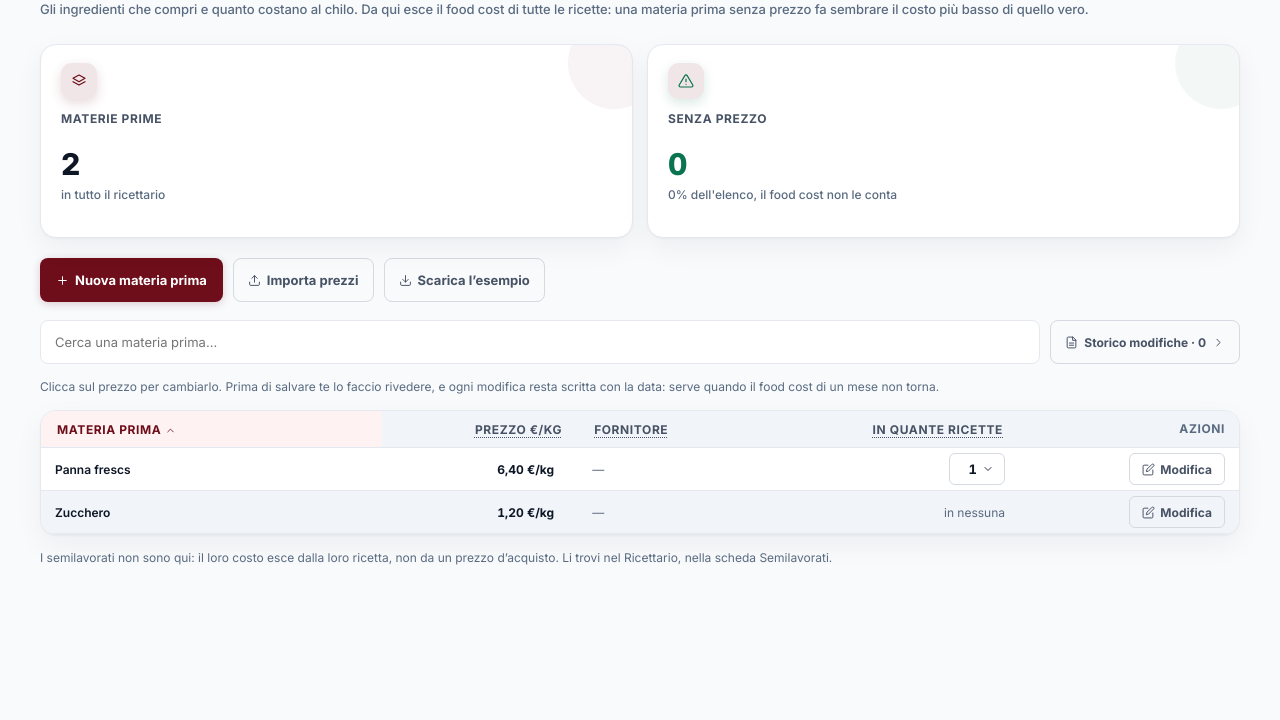
it: la finestra del cambio nome › un doppione viene fermato PRIMA di arrivare a chi salva
Step 1. Click the button "Modifica" in the row of "Panna frescs" → (1177, 469), box [1129,453,1225,485]
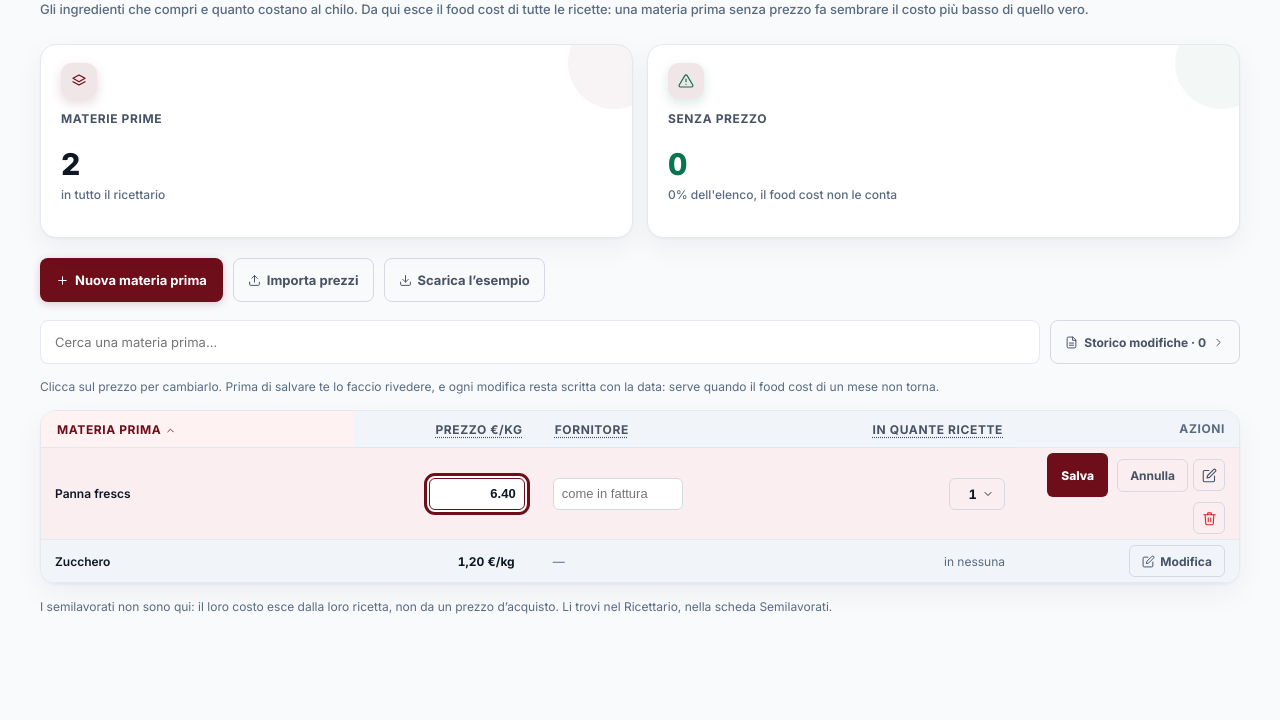
Expected: the button named "Cambia il nome di panna frescs" is shown
Step 2. Click the button named "Cambia il nome di panna frescs" → (1209, 475), box [1193,459,1225,491]
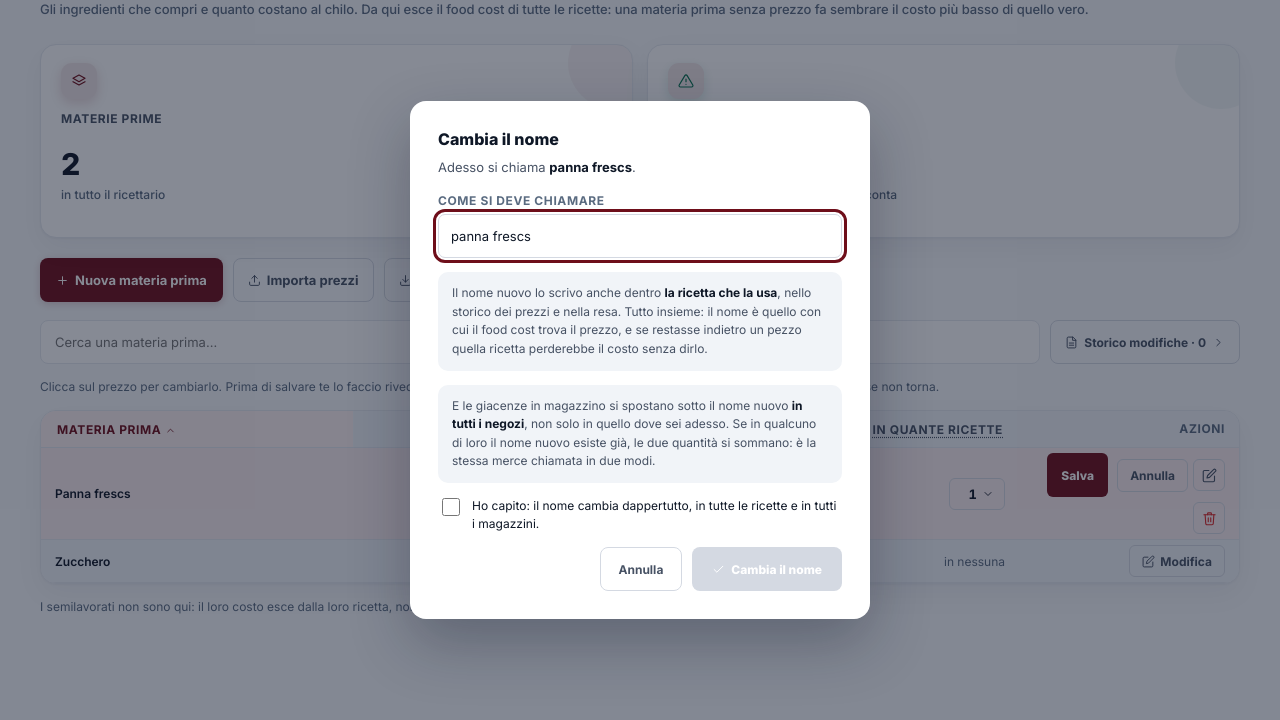
Expected: the field labelled "Come si deve chiamare" is shown
Step 3. Replace the text in the field labelled "Come si deve chiamare" with "zucchero" → (640, 236), box [438,214,842,258]
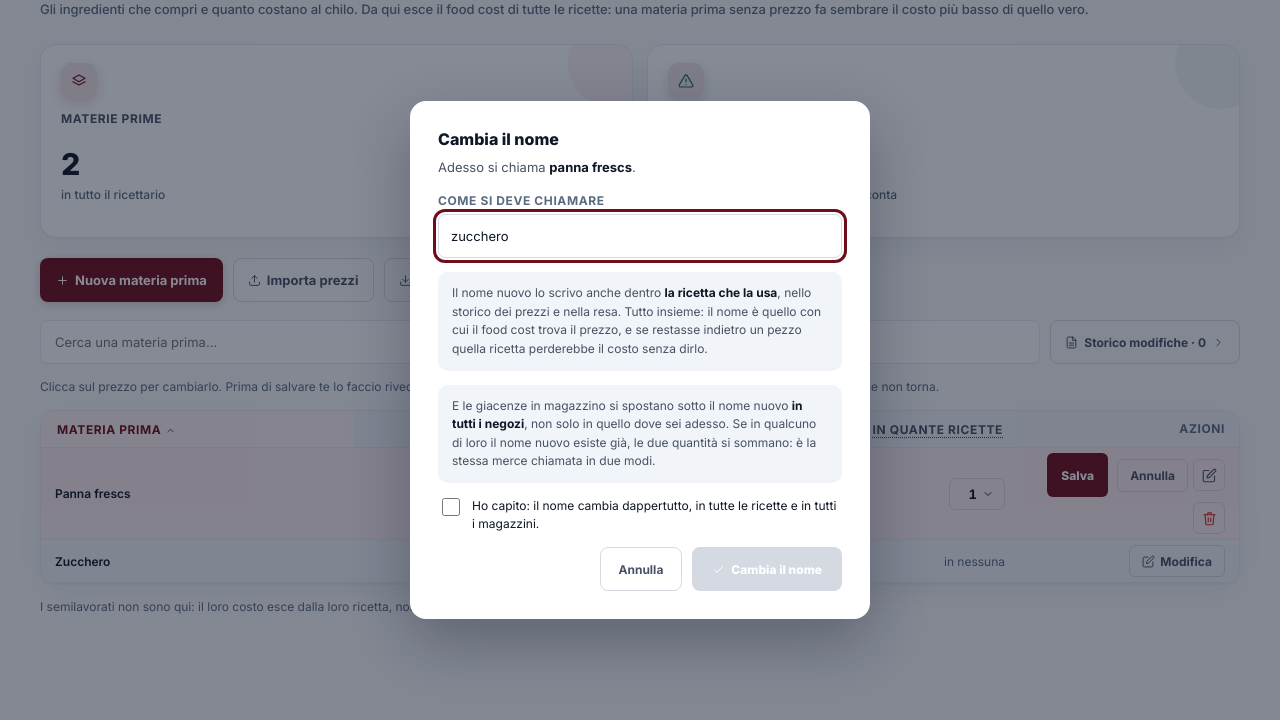
Step 4. Click the checkbox → (451, 507), box [442,498,460,516]
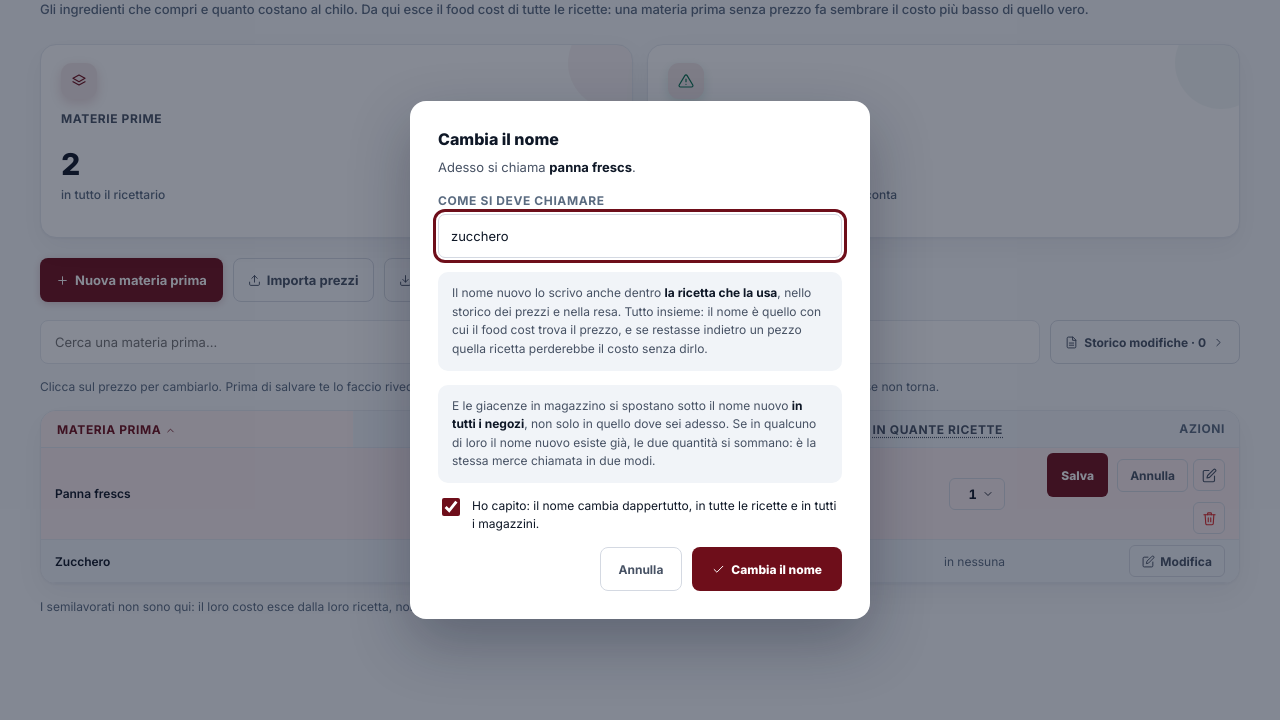
Step 5. Click the button "Cambia il nome" → (767, 569), box [692,547,842,591]
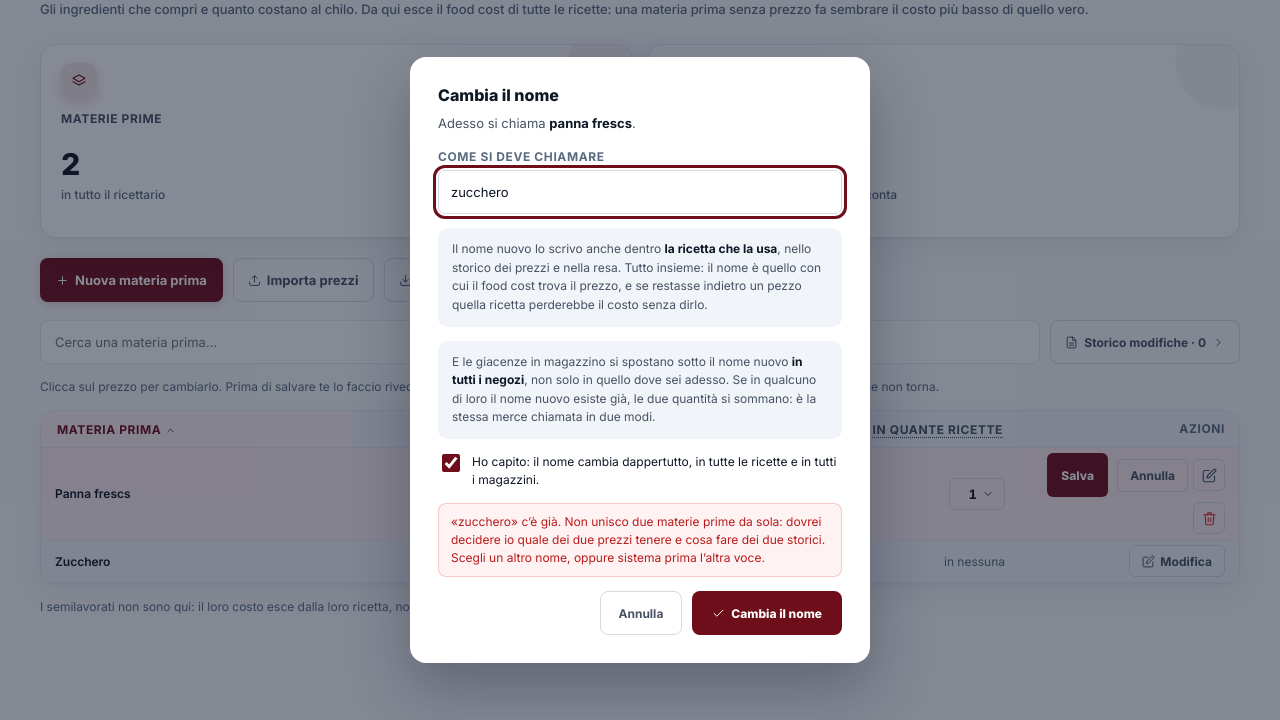
Expected: the text "c’è già" is shown, [451,514,825,565]
